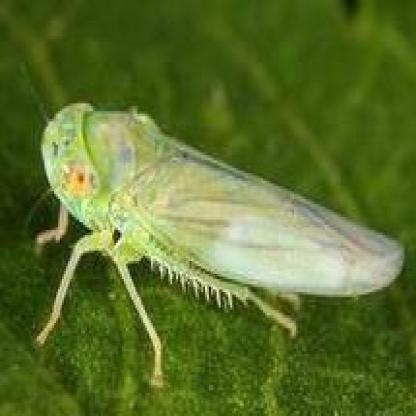Green-Leafhopper: (25, 88, 406, 388)
